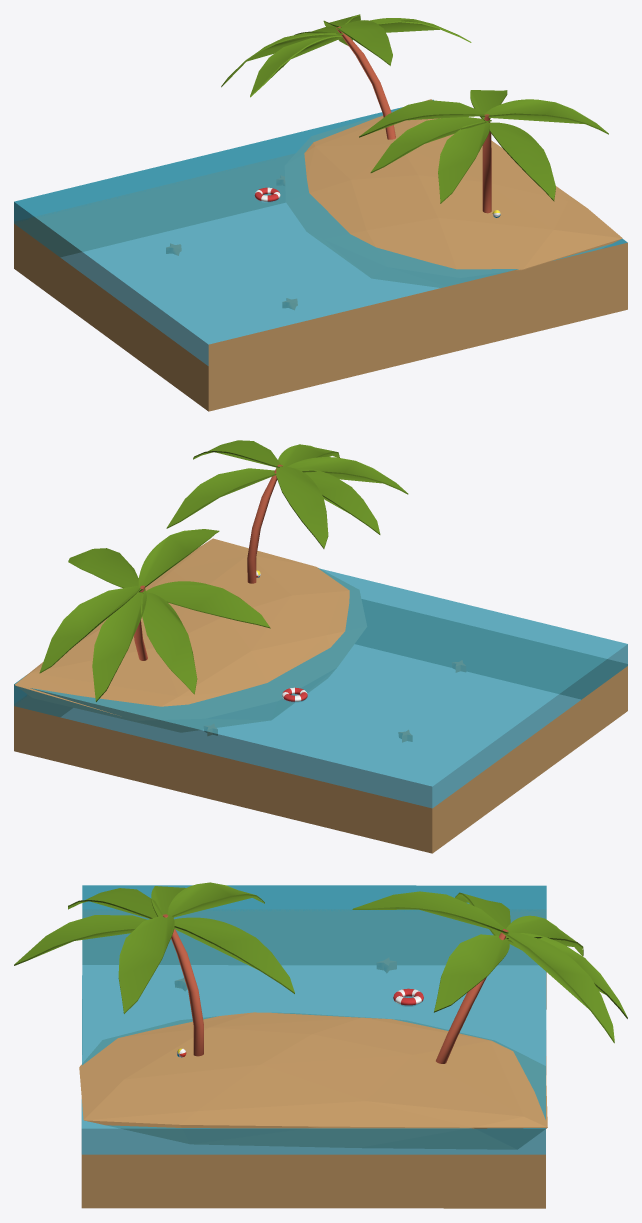
File: beachside.glb
The picture shows the model from 3 angles, top to bottom: view 1: azimuth 30°, elevation 25°; view 2: azimuth 150°, elevation 25°; view 3: azimuth 270°, elevation 25°; orthographic projection. The views are drawn at different scales.
Parts seen in each view (by area): view 1: Box001; view 2: Box001; view 3: Box001.
Boxes of the visible parts, bbox=[...] form: Box001: bbox=[14, 14, 627, 411]; Box001: bbox=[14, 440, 627, 853]; Box001: bbox=[14, 882, 627, 1208].
Bounding box in the file's own units: 242 × 111 × 257.
